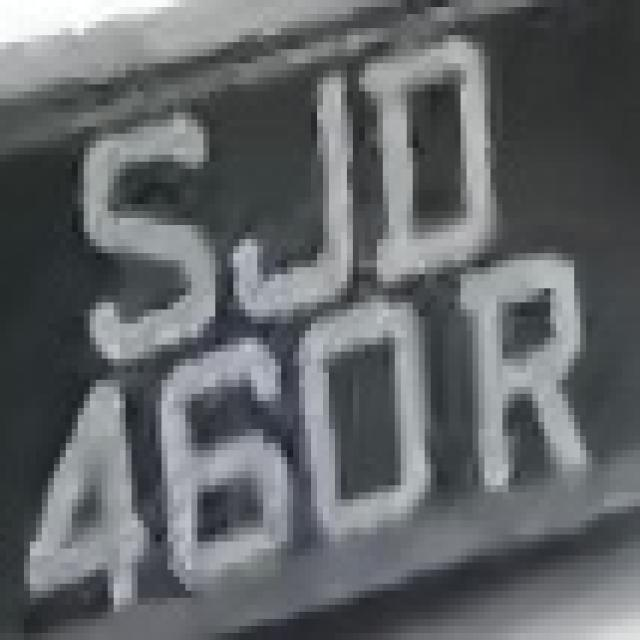0: (281, 310, 455, 548)
4: (12, 352, 161, 619)
6: (150, 338, 299, 584)
D: (359, 35, 502, 274)
J: (209, 56, 371, 331)
R: (443, 239, 610, 521)
S: (60, 112, 221, 358)
